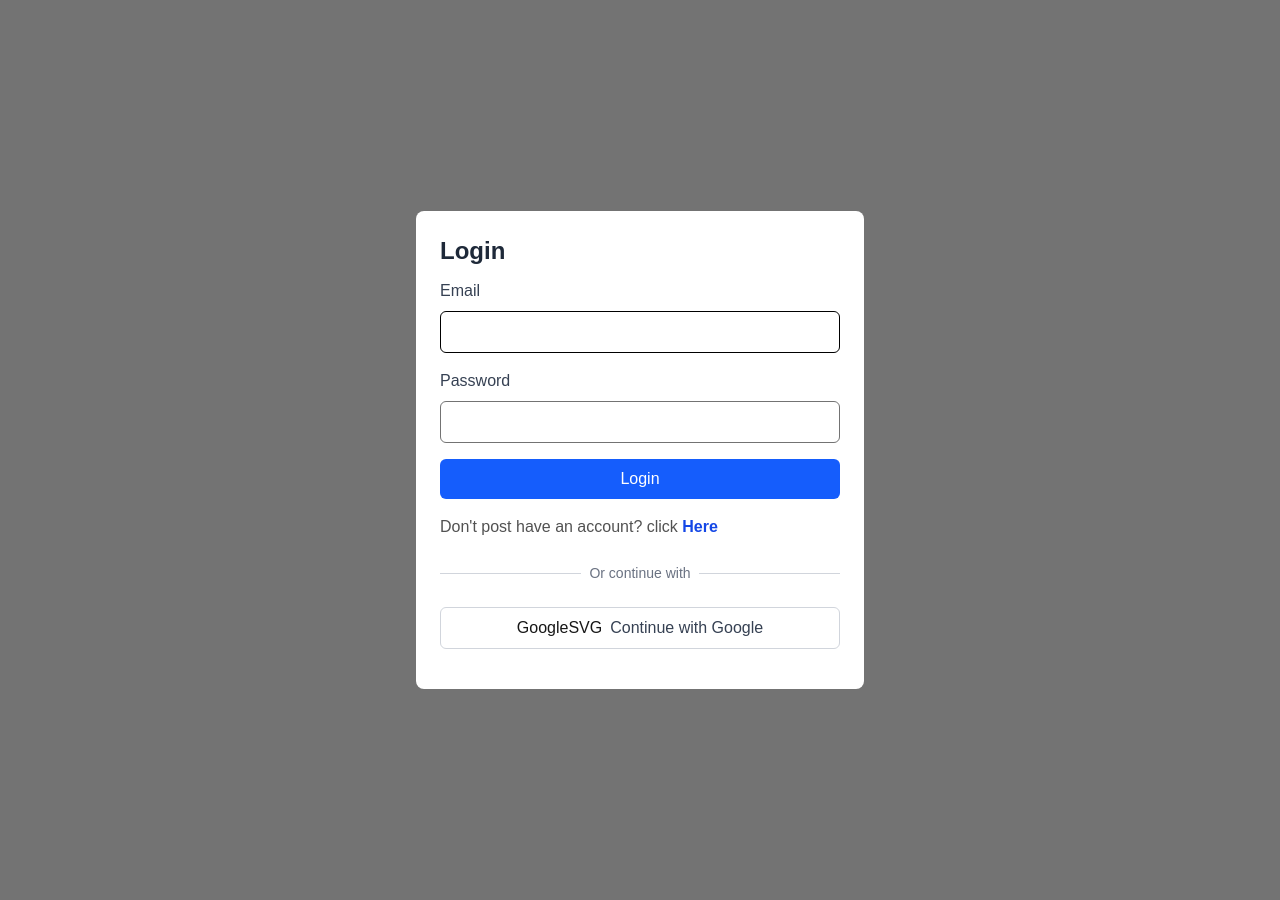
Test: SignIn Component › displays error message on failed login
The image size is (1280, 900).
Type "test@example.com" into the field labelled "Email" at point(640, 332), box x1=440 y1=311 x2=840 y2=353
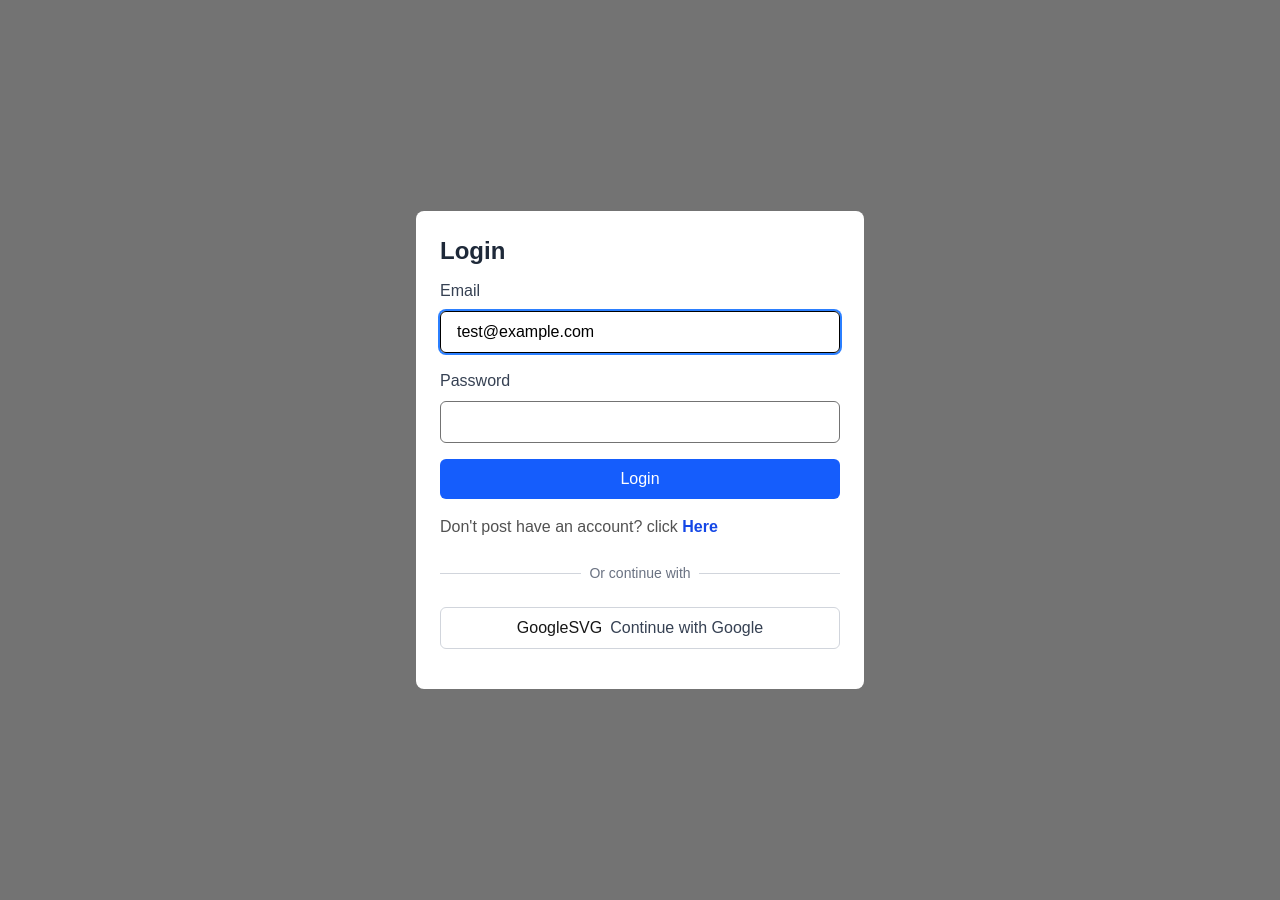
Type "password" into the password field labelled "Password" at point(640, 422), box x1=440 y1=401 x2=840 y2=443
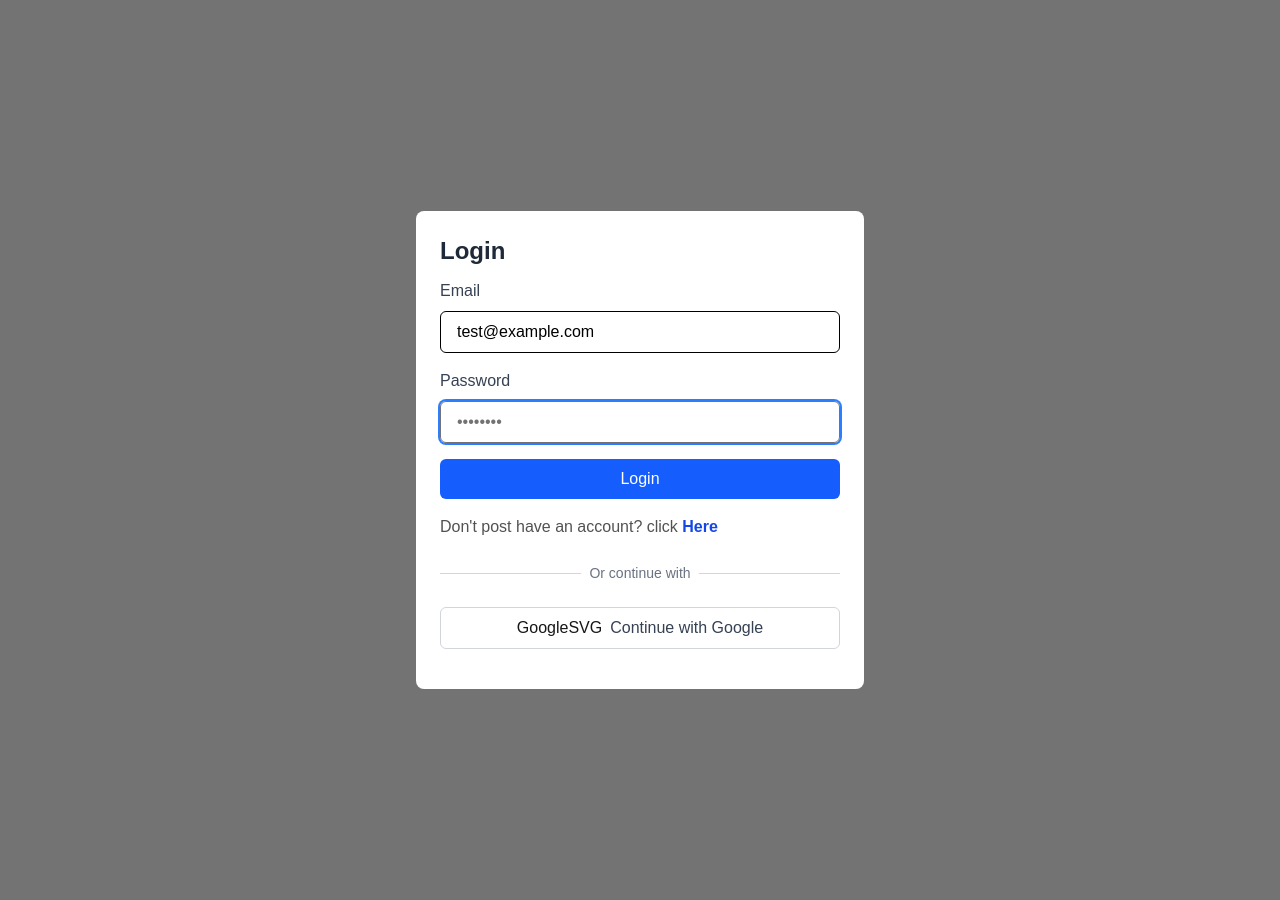
Click the button "Login" at point(640, 479), box x1=440 y1=459 x2=840 y2=499
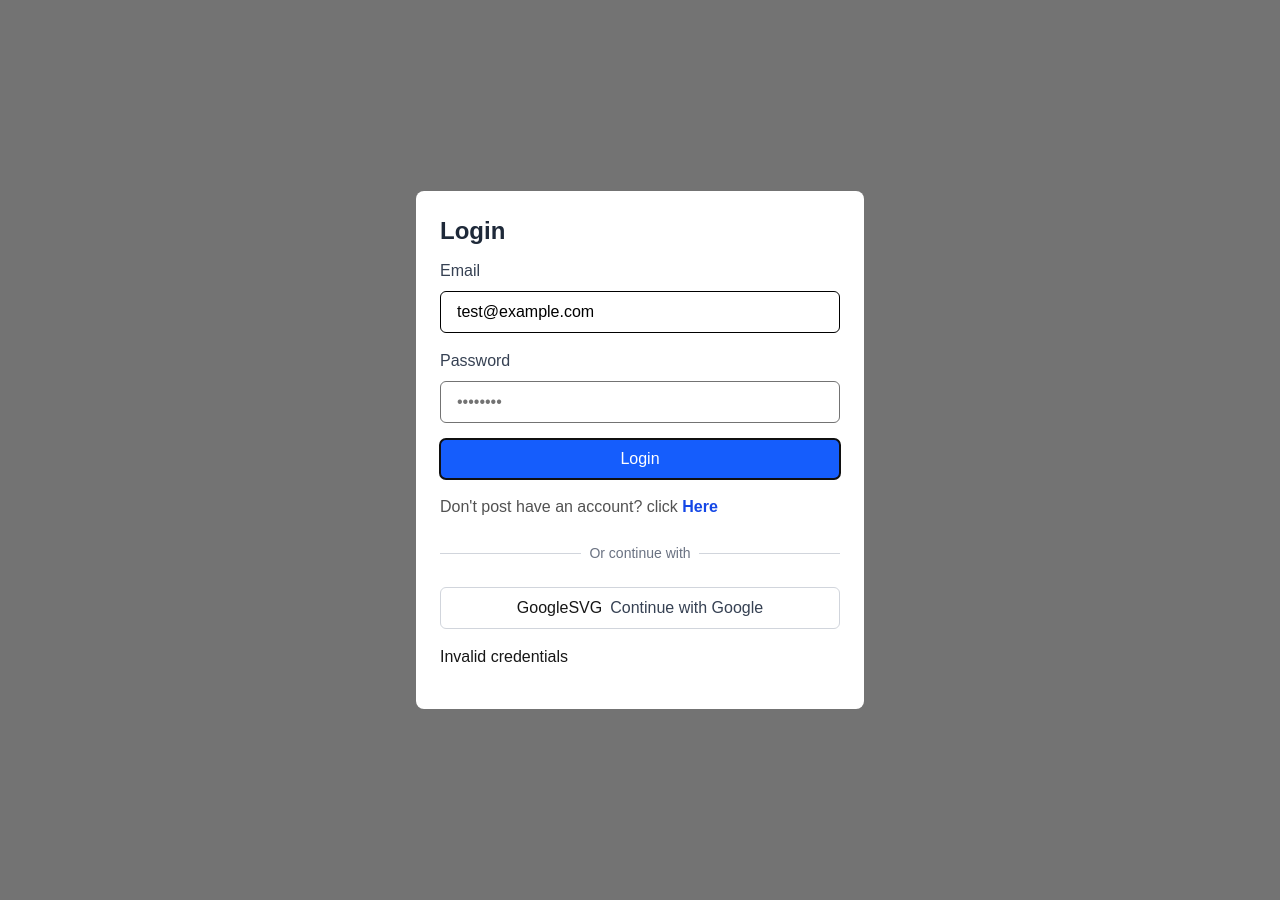
expect the text "Invalid credentials" is shown: met, box x1=440 y1=648 x2=568 y2=665
